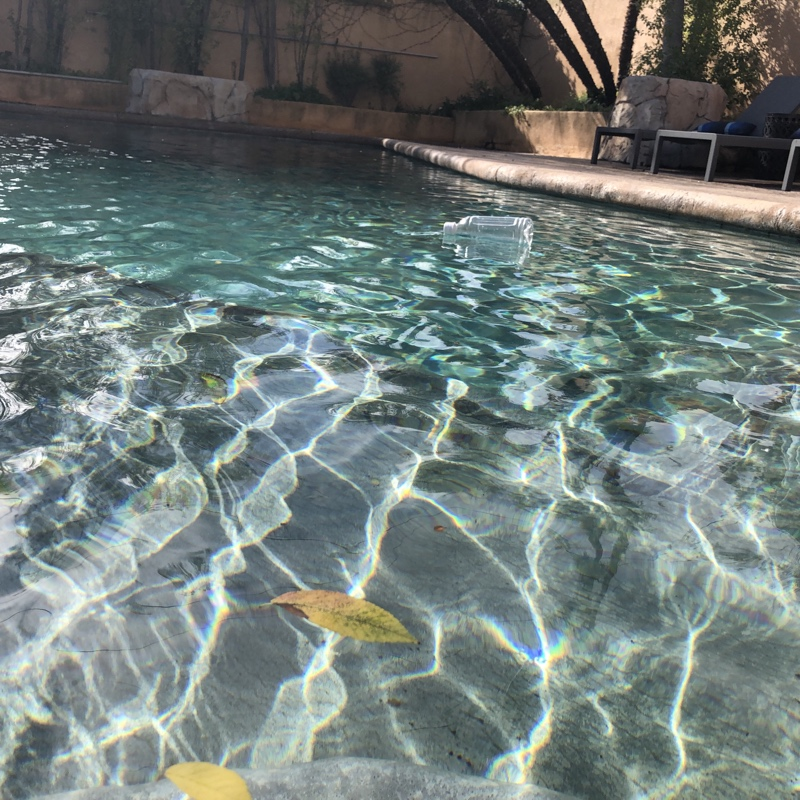Plastic Bottle: (438, 209, 537, 262)
